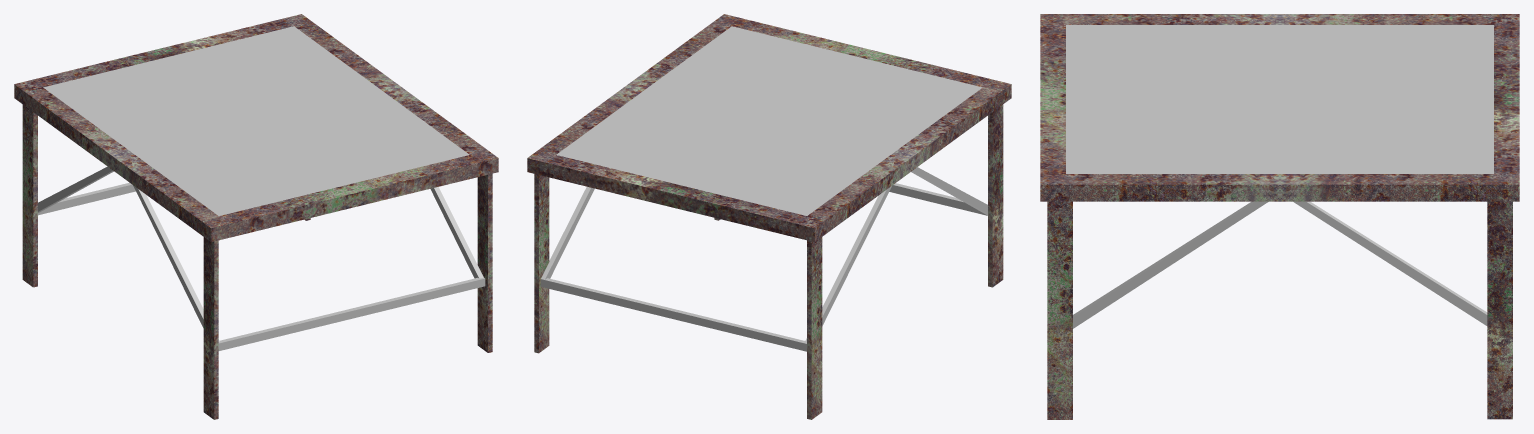
File: tableSteel.FBX
3 renders of one model, left to right at view 1: azimuth 30°, elevation 25°; view 2: azimuth 150°, elevation 25°; view 3: azimuth 270°, elevation 25°, orthographic. The views are drawn at different scales.
Parts seen in each view (by area): view 1: tableSteel; view 2: tableSteel; view 3: tableSteel.
Part boxes in pixels (x1,y1,x2,y2): tableSteel: [14, 14, 498, 419]; tableSteel: [527, 14, 1011, 419]; tableSteel: [1040, 14, 1519, 419].
Bounding box in the file's own units: 0.3773 × 0.2445 × 0.4475.
